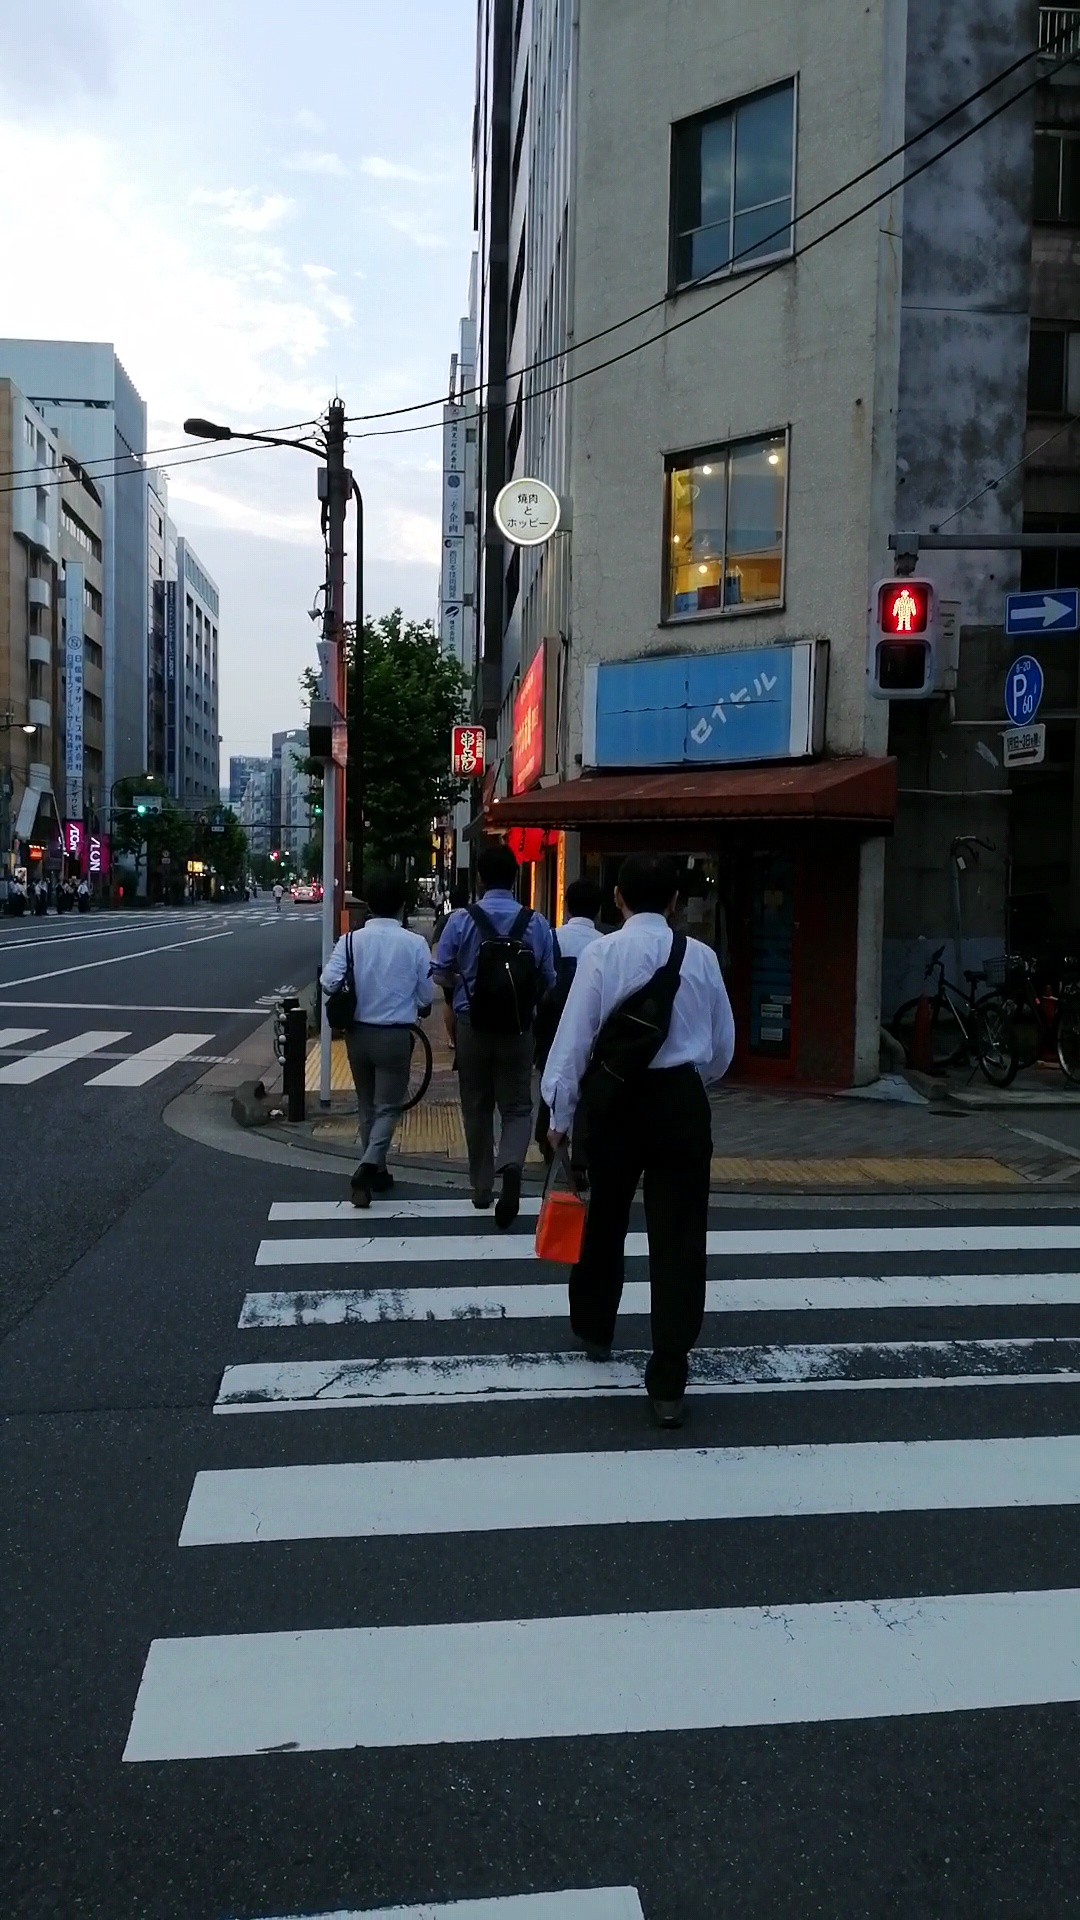red: (868, 576, 934, 700)
